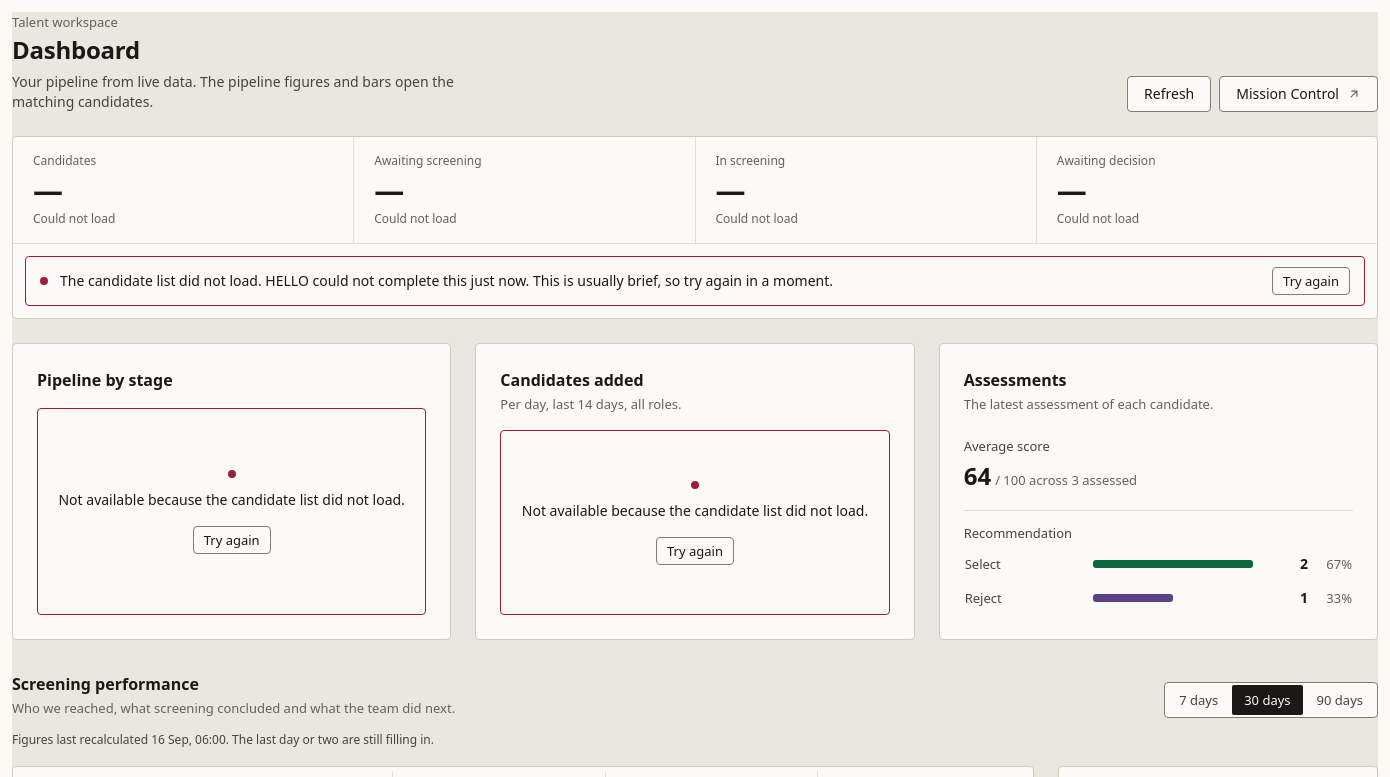
DashboardPage › a read that fails stays in its own panels › Retry in Candidates added reloads only the list
Expected: the message is shown, [25,256,1365,306]
Expected: the link with aria-label "average assessment score 64" is shown, [964,437,1137,492]
Step 1. Click the button "Try again" below "Per day, last 14 days, all roles." → (695, 550), box [656,536,734,564]
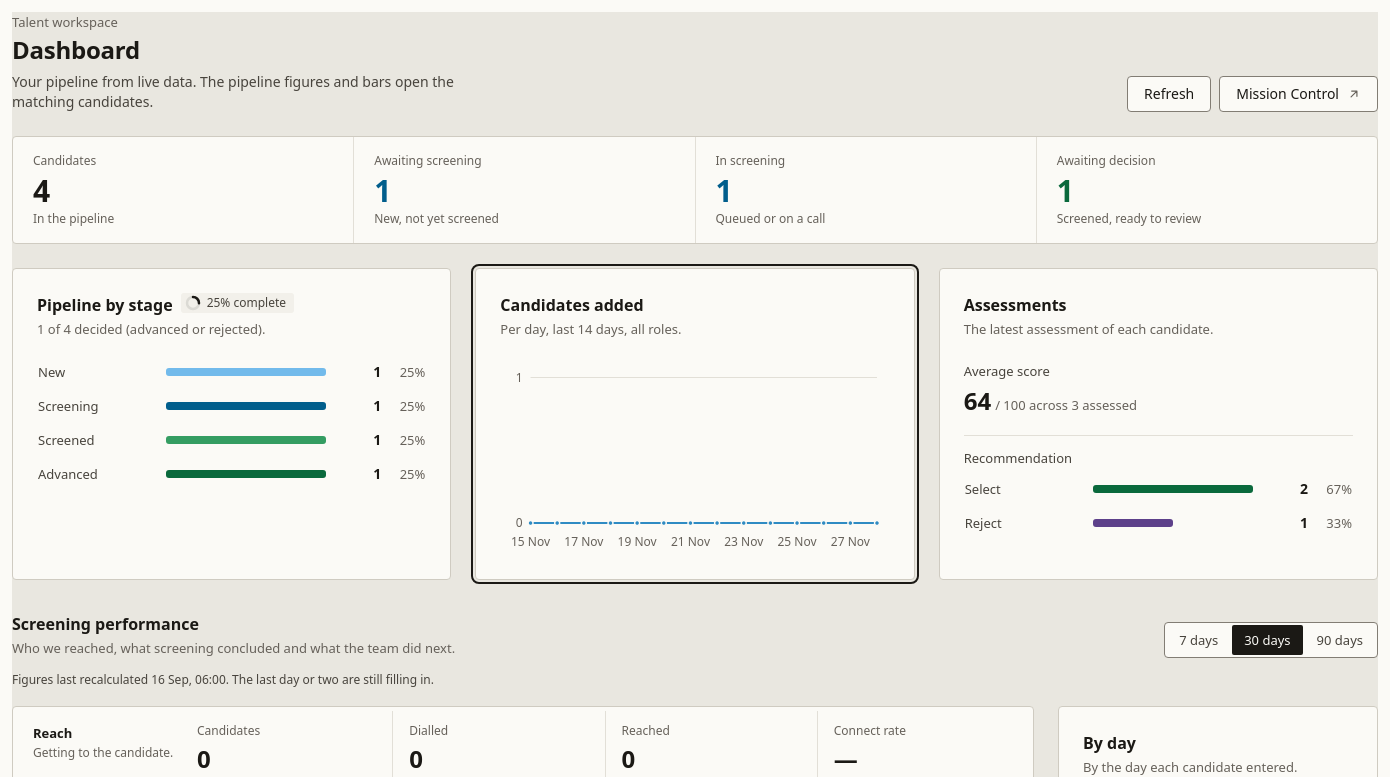
Now the link with aria-label "Candidates: 4" is shown, box [33,152,114,227]
Now the message is gone
Now the table named "Pipeline by stage data" is shown, box [37,355,426,491]
